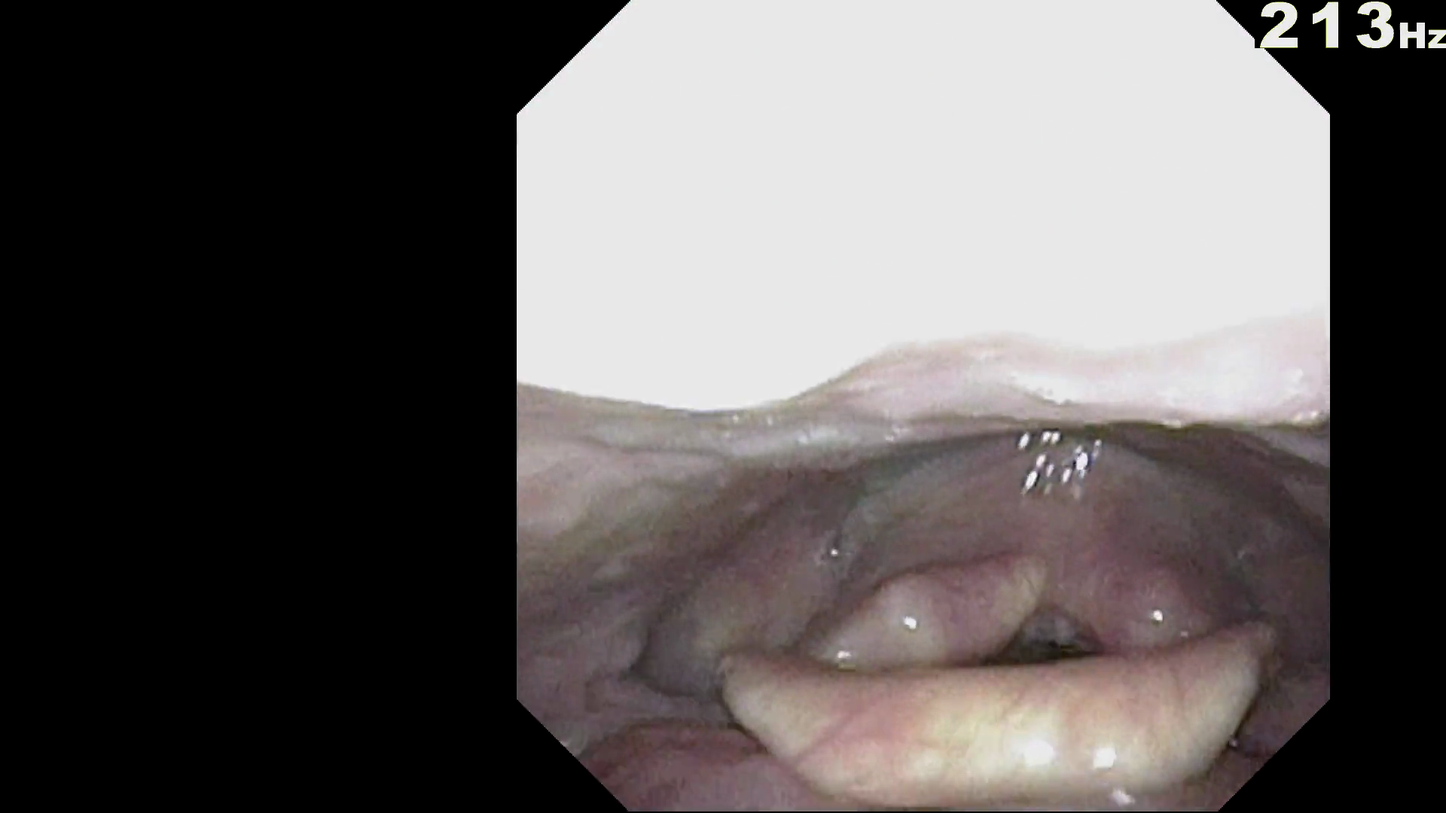epiglottis: (701, 651, 1243, 790)
trachea: (954, 595, 1096, 696)
